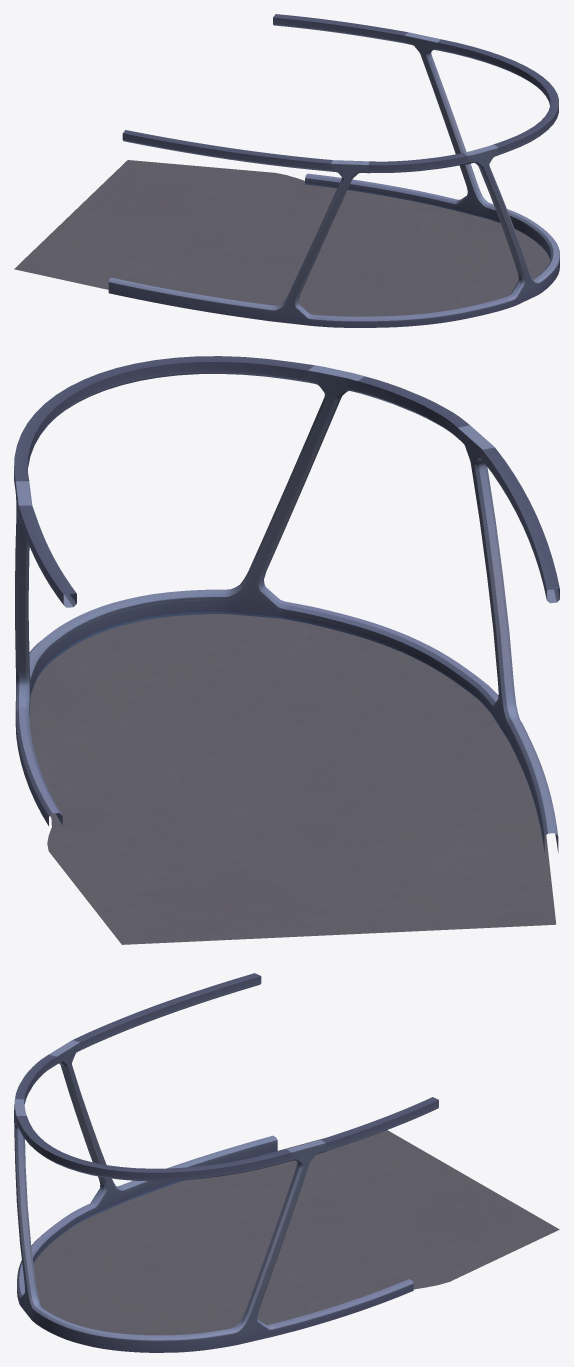
Rendered from pref_env_match001_lv3.fbx.
The picture shows the model from 3 angles, top to bottom: view 1: azimuth 30°, elevation 25°; view 2: azimuth 150°, elevation 25°; view 3: azimuth 270°, elevation 25°; orthographic projection. The views are drawn at different scales.
Visible parts, largest first — view 1: pref_sm_match_platform01_lv3, pref_sm_match_window01_lv3; view 2: pref_sm_match_platform01_lv3, pref_sm_match_window01_lv3; view 3: pref_sm_match_platform01_lv3, pref_sm_match_window01_lv3.
Boxes of the visible parts, x1,y1,x2,y2 form: pref_sm_match_platform01_lv3: (14, 160, 550, 316); pref_sm_match_window01_lv3: (108, 14, 559, 327); pref_sm_match_platform01_lv3: (29, 614, 556, 944); pref_sm_match_window01_lv3: (14, 356, 559, 852); pref_sm_match_platform01_lv3: (33, 1130, 559, 1335); pref_sm_match_window01_lv3: (14, 973, 438, 1352).
Size of the model in its own units: 20.03 by 7.38 by 20.22.
